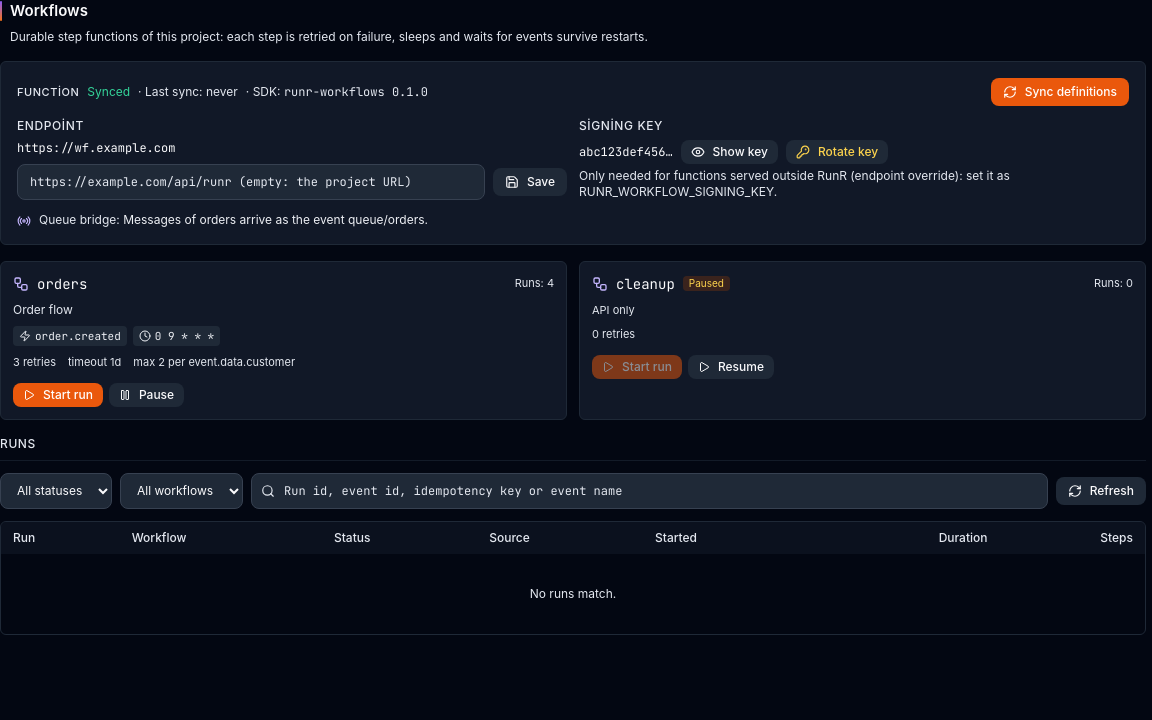
WorkflowsTab › rejects run data that is not a JSON object
Click the button with test id "start-orders" at coordinates (58, 394), box [13,382,103,406]
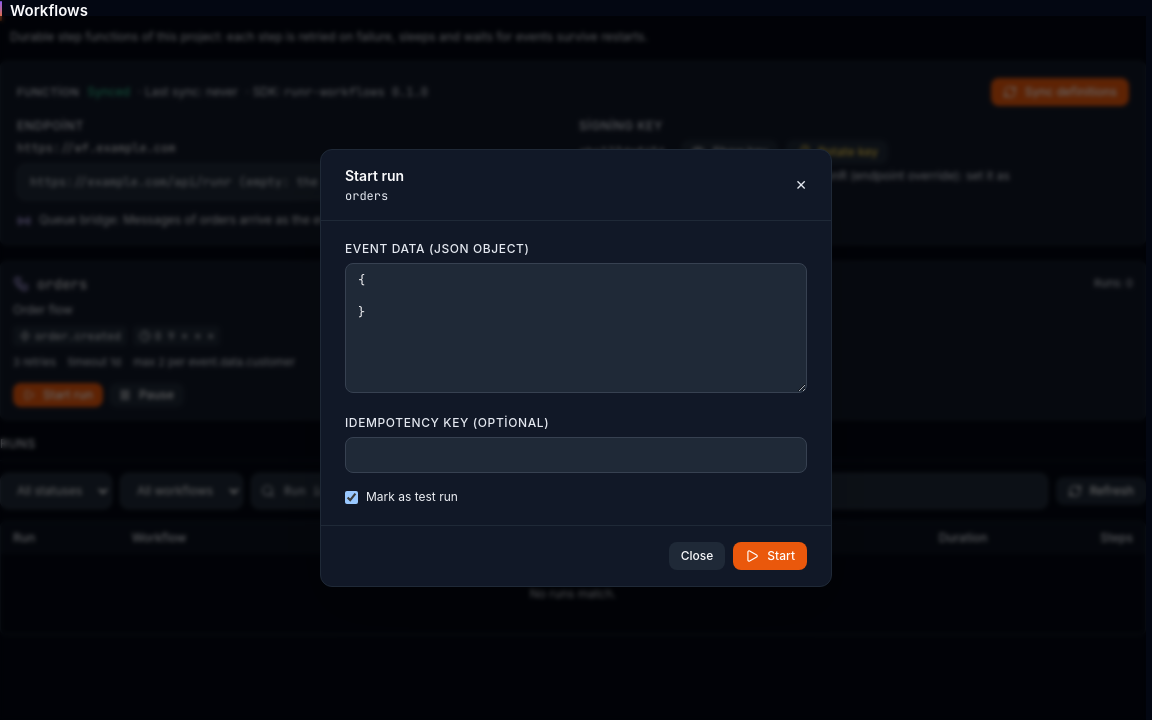
Replace the text in the text box with test id "run-data" with "[1, 2]" at coordinates (576, 328), box [345,263,807,393]
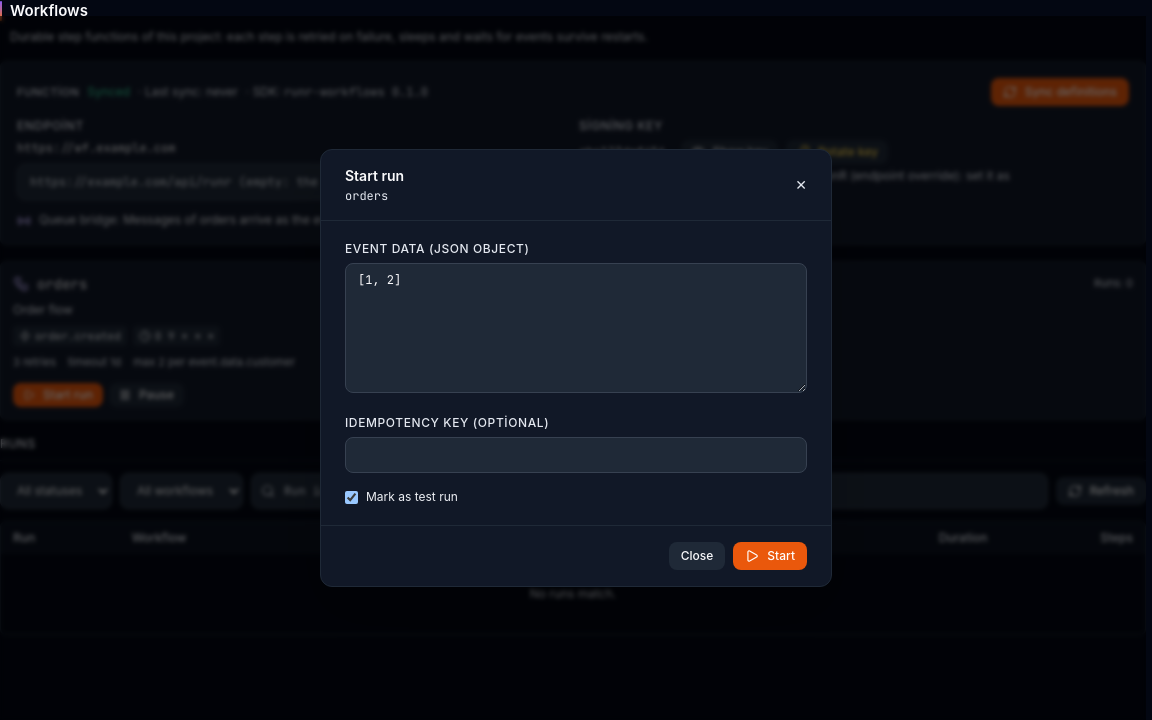
Submit the form, box [320,149,832,587]
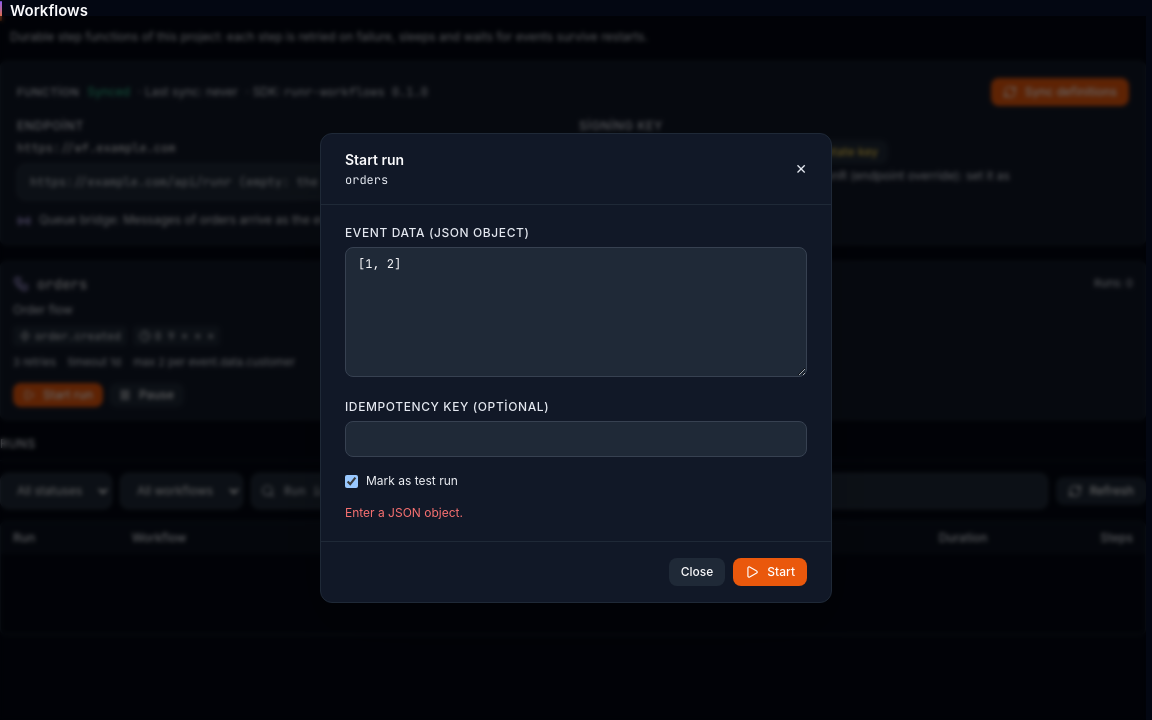
Expected: the text with test id "start-error" shows "JSON object", [345,505,463,520]
